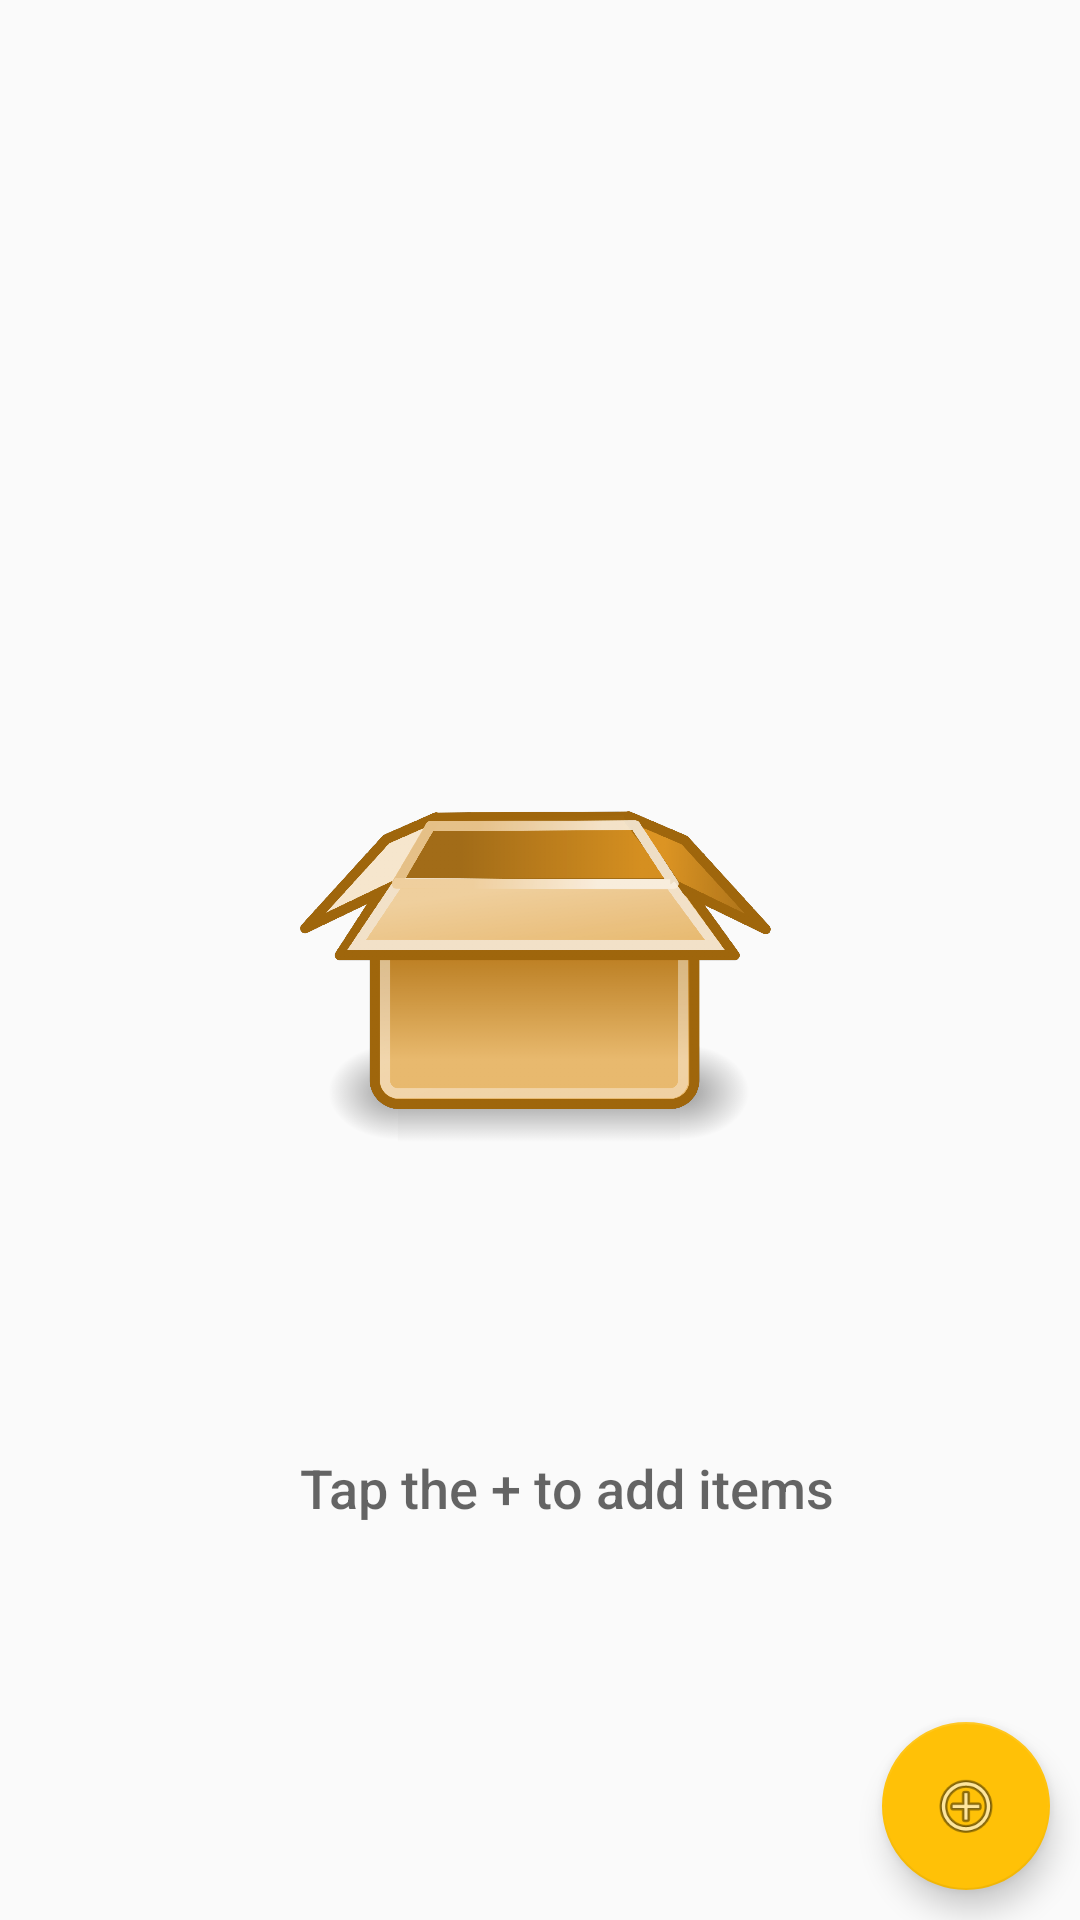

Icon click points for this 1080px x 1920px phone screenshot, format point (x, y):
add: point (966, 1806)
